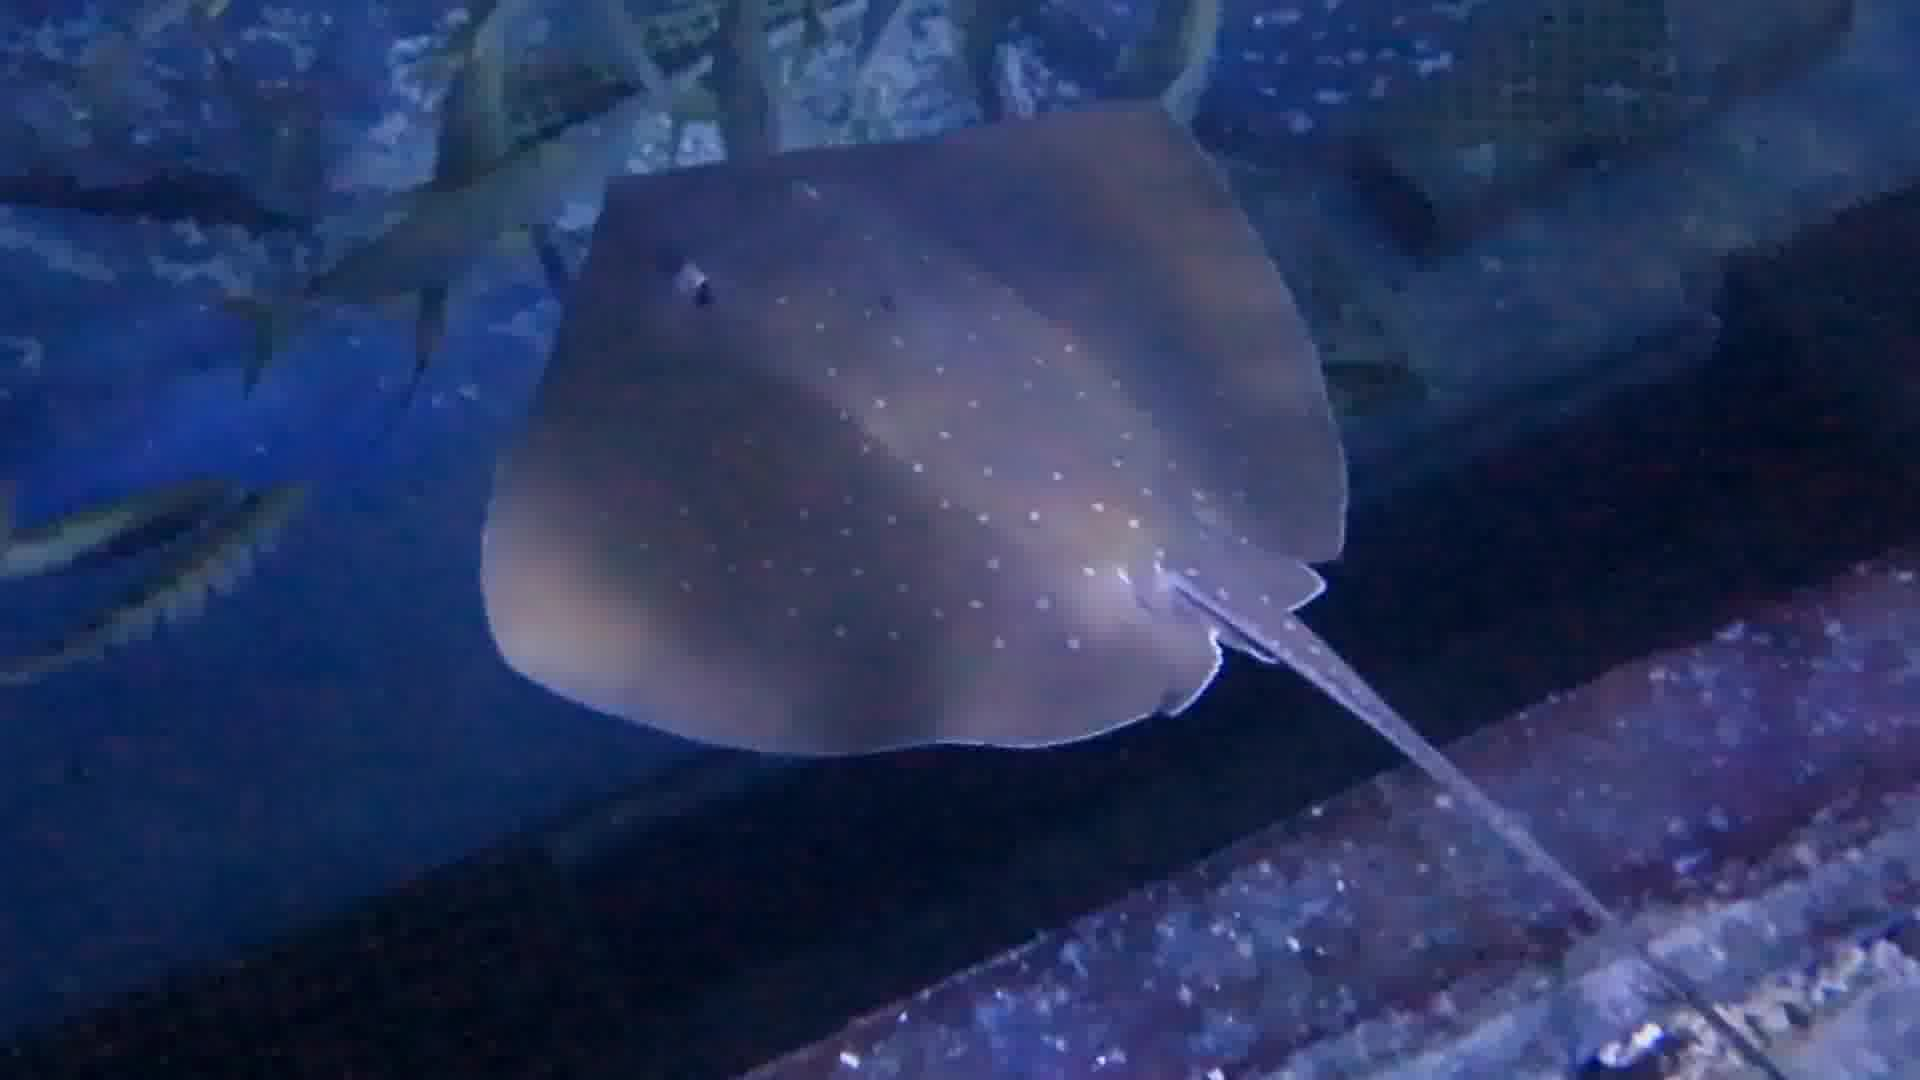Himantura gerrardi: (479, 105, 1693, 1002)
